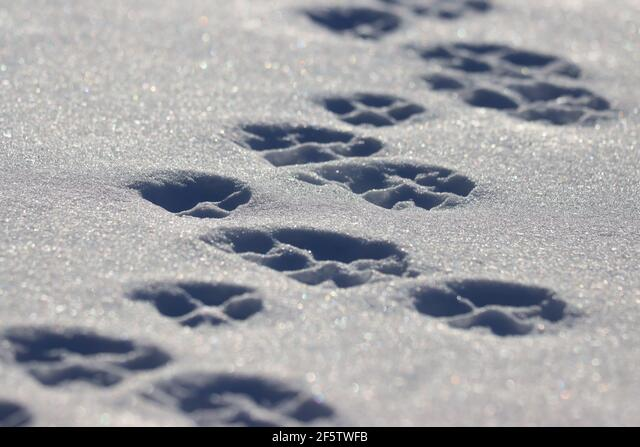fox: (217, 222, 421, 286), (130, 165, 255, 222)
